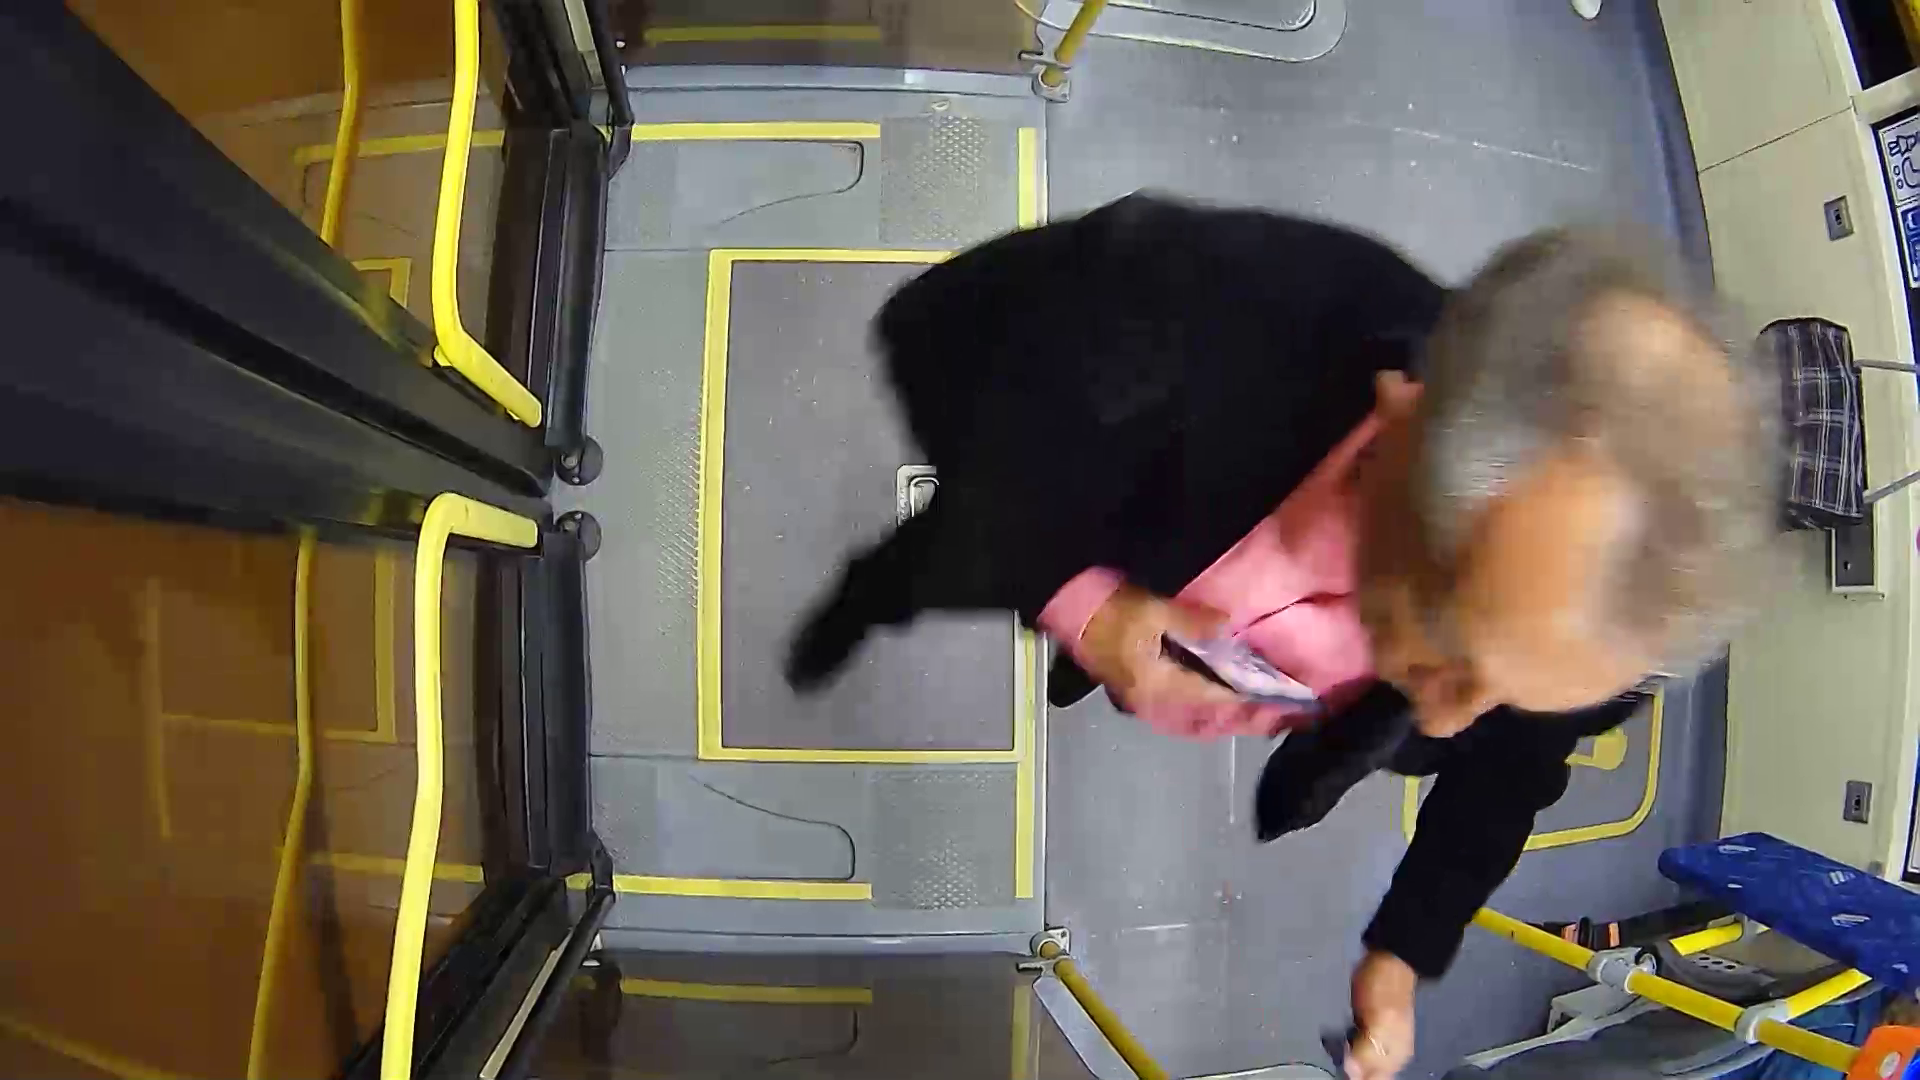person: (859, 181, 1791, 892)
